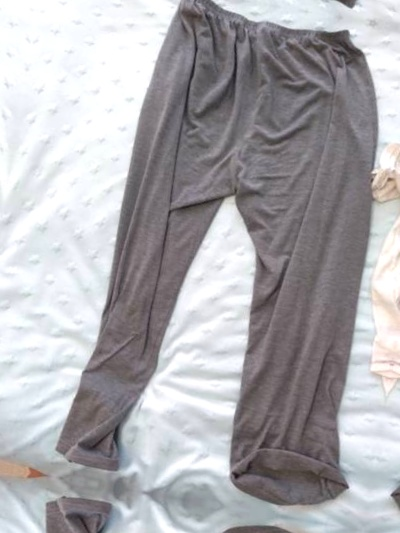Pants: (28, 0, 400, 505), (0, 495, 339, 533), (111, 0, 400, 32), (388, 40, 400, 533)
